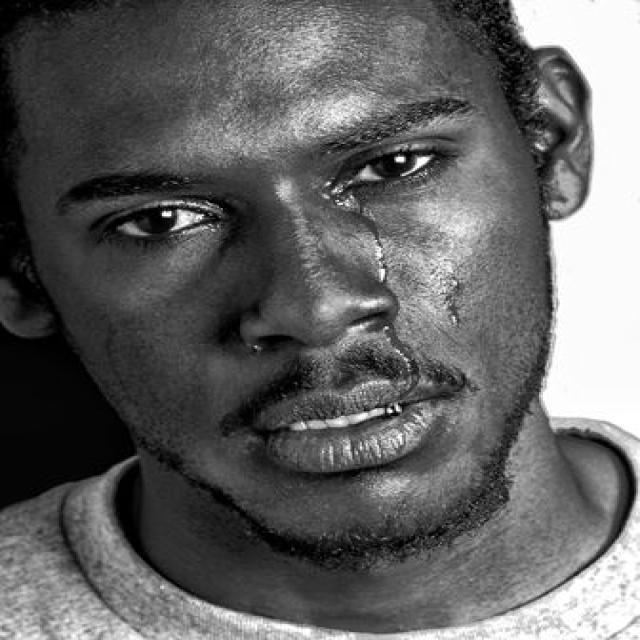sem_oculos: (12, 128, 627, 269)
